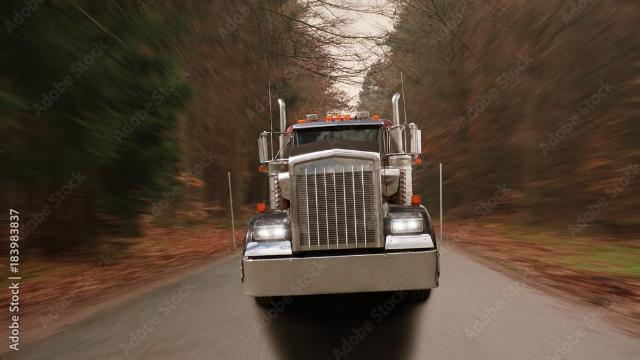truck: (230, 91, 447, 308)
